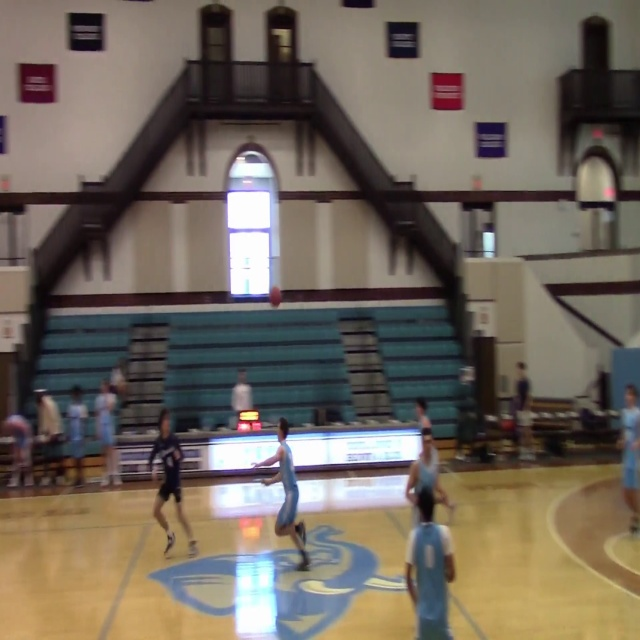Basketball: (269, 285, 282, 307)
